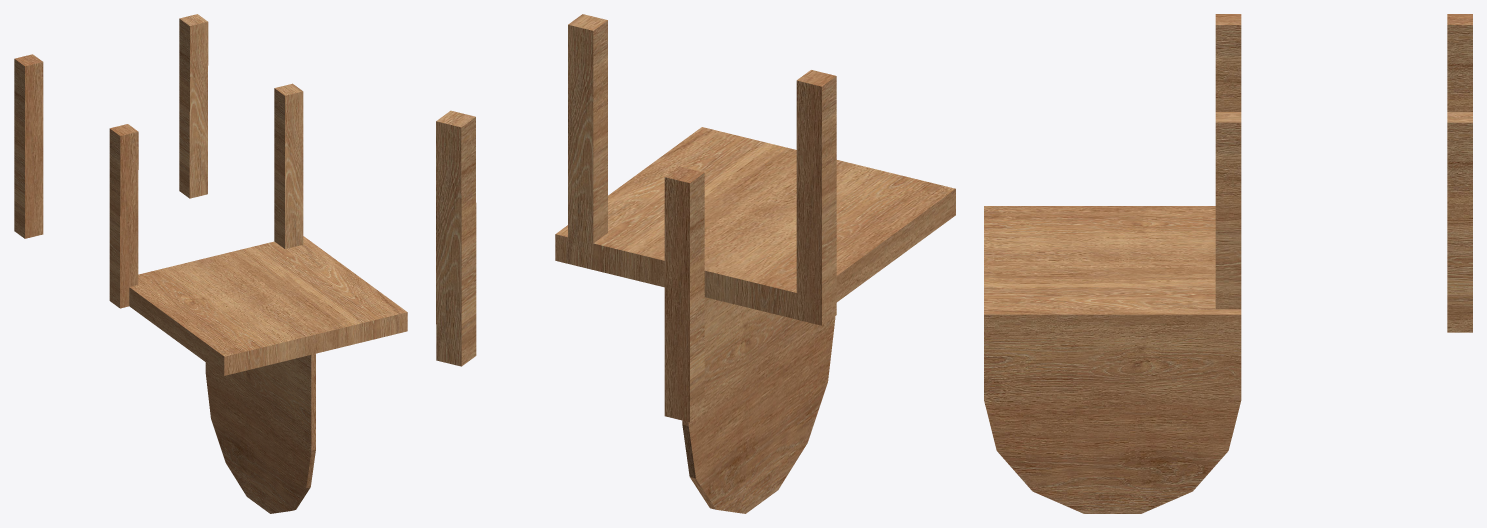
File: 36957_gpt-only.glb
3 views of the same model, side by side, from view 1: azimuth 30°, elevation 25°; view 2: azimuth 150°, elevation 25°; view 3: azimuth 270°, elevation 25° (orthographic). The views are drawn at different scales.
Parts seen in each view (by area): view 1: ParentEmpty; view 2: ParentEmpty; view 3: ParentEmpty.
Part boxes in pixels (x1,y1,x2,y2): ParentEmpty: (14, 14, 407, 513); ParentEmpty: (436, 14, 955, 513); ParentEmpty: (984, 14, 1472, 513).
Size of the model in its own units: 0.5527 by 0.9934 by 1.
1 material, 1 textured.
